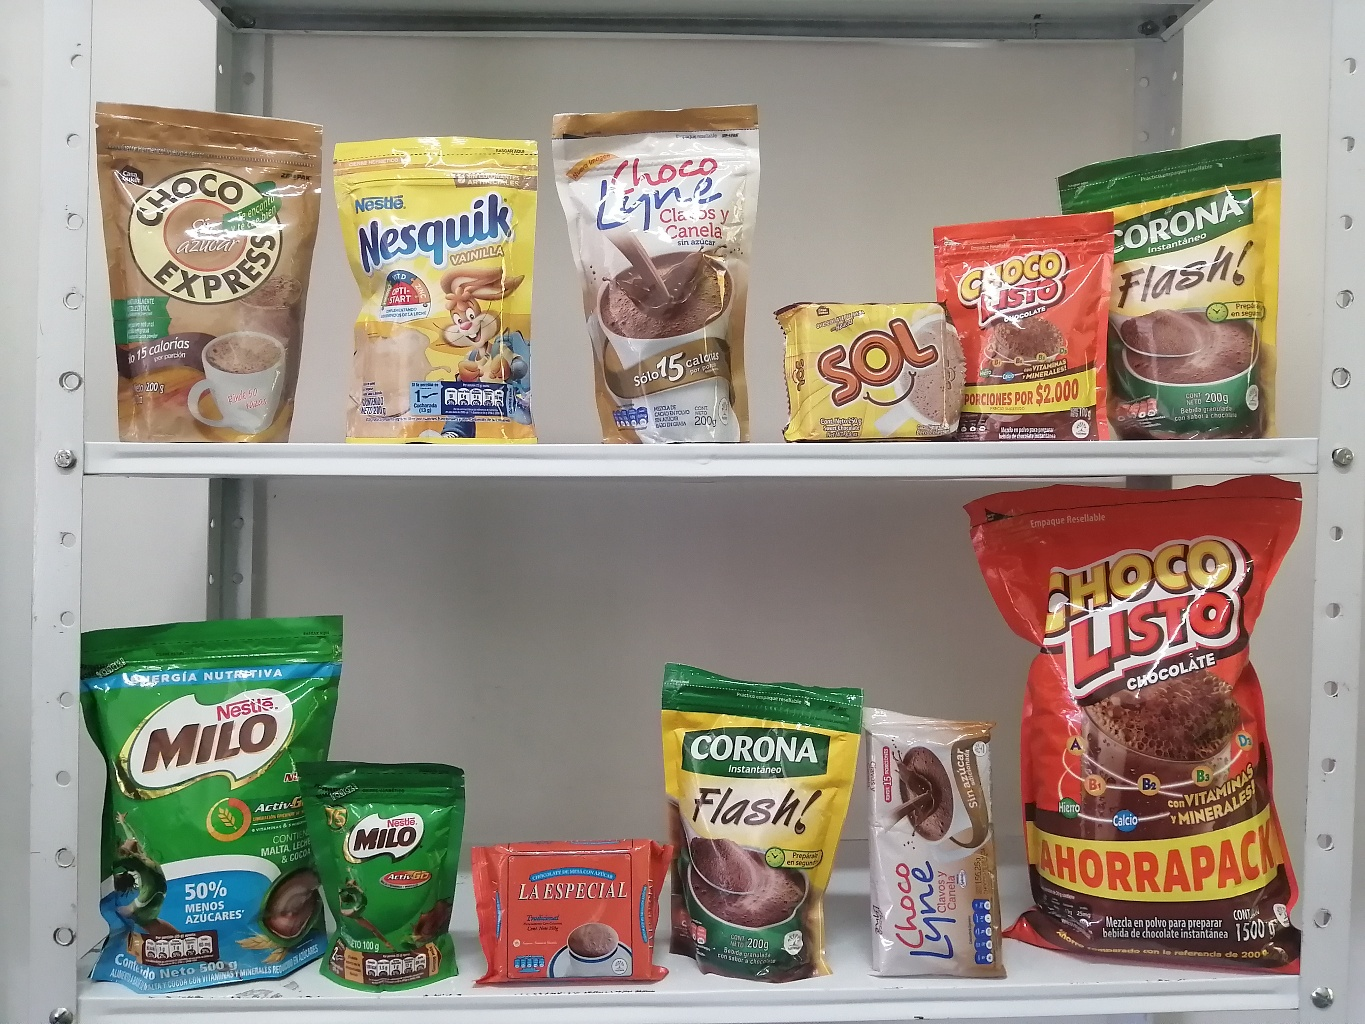COL0170103DYP1,500: (941, 461, 1327, 995)
COL0170203DYP10000: (284, 729, 471, 999)
COL0170205DYP50000: (52, 597, 362, 1002)
COL0170306DYP20000: (322, 131, 548, 454)
